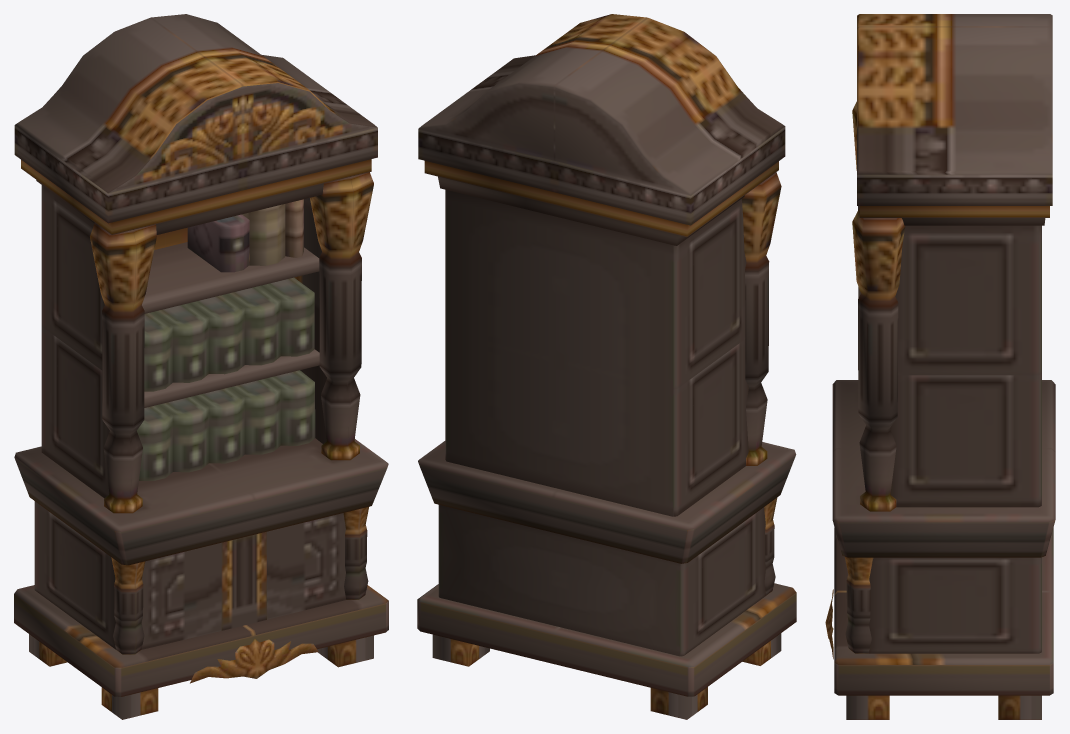
Rendered from rmk_rcc_bookshelf.dae.
3 renders of one model, left to right at view 1: azimuth 30°, elevation 25°; view 2: azimuth 150°, elevation 25°; view 3: azimuth 270°, elevation 25°, orthographic. The views are drawn at different scales.
Parts seen in each view (by area): view 1: rmk_rcc_bookshelf; view 2: rmk_rcc_bookshelf; view 3: rmk_rcc_bookshelf.
Boxes of the visible parts, x1,y1,x2,y2 form: rmk_rcc_bookshelf: (14,14,388,719); rmk_rcc_bookshelf: (417,14,796,719); rmk_rcc_bookshelf: (825,14,1055,719).
Bounding box in the file's own units: 30.5 × 63.81 × 21.16.
Materials: 1 (1 with a texture image).
